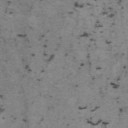oxide scale of temperature system: (16, 0, 126, 100), (0, 94, 29, 124), (78, 105, 110, 128), (67, 0, 90, 14), (4, 0, 14, 14), (119, 108, 124, 112), (40, 117, 44, 122), (66, 122, 70, 126), (75, 84, 78, 88)
